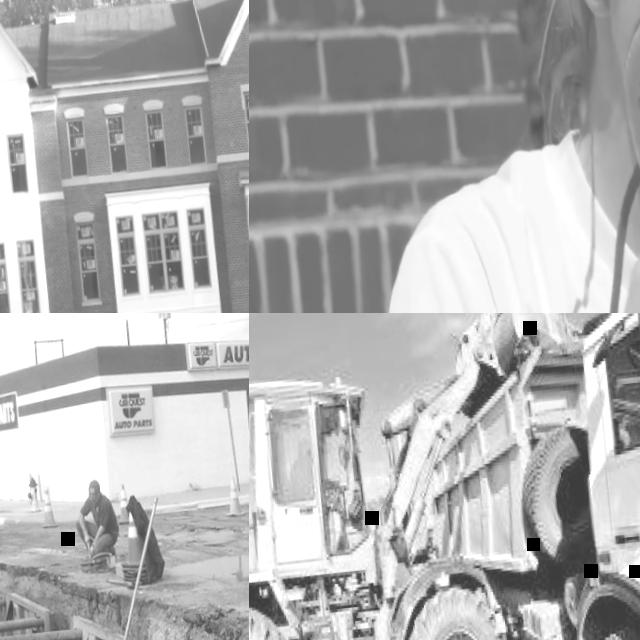NO-Hardhat: (87, 478, 101, 494)
NO-Safety Vest: (448, 100, 640, 313), (88, 498, 113, 537)
Person: (311, 0, 640, 313), (71, 474, 122, 561), (289, 437, 338, 503)
Safety Cone: (116, 511, 149, 583), (223, 476, 246, 519), (39, 486, 59, 530), (113, 484, 132, 526)
vehicle: (249, 313, 620, 640), (403, 313, 640, 640)
